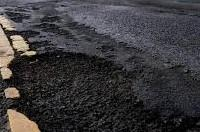pothole: (1, 50, 200, 132), (1, 3, 96, 51)
